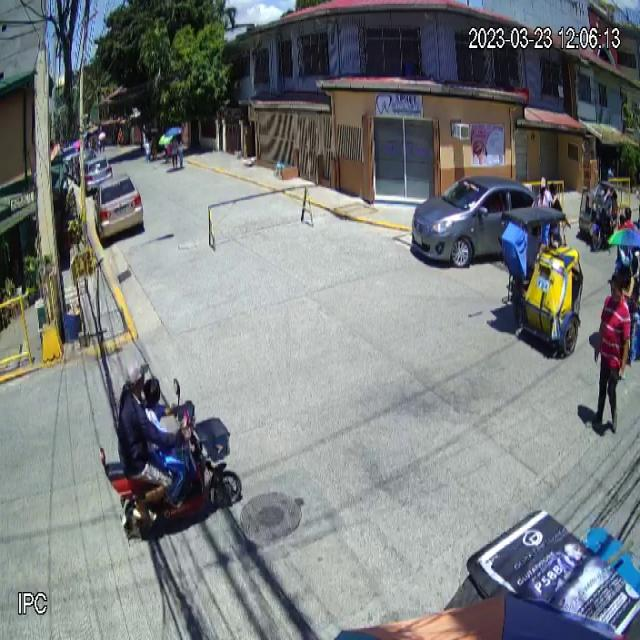Car: (412, 174, 554, 270)
Tricycle: (503, 206, 585, 359)
